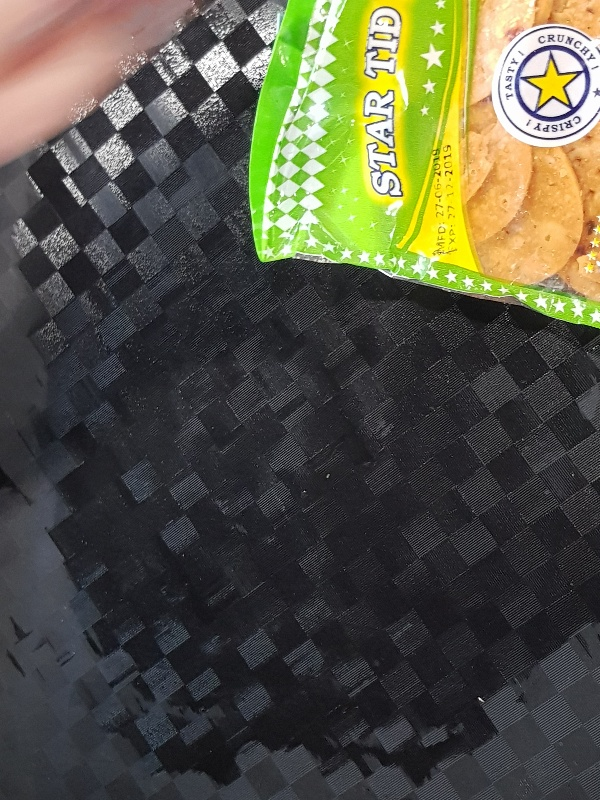Star Tidbits 'O' Ring: (248, 1, 600, 332)
